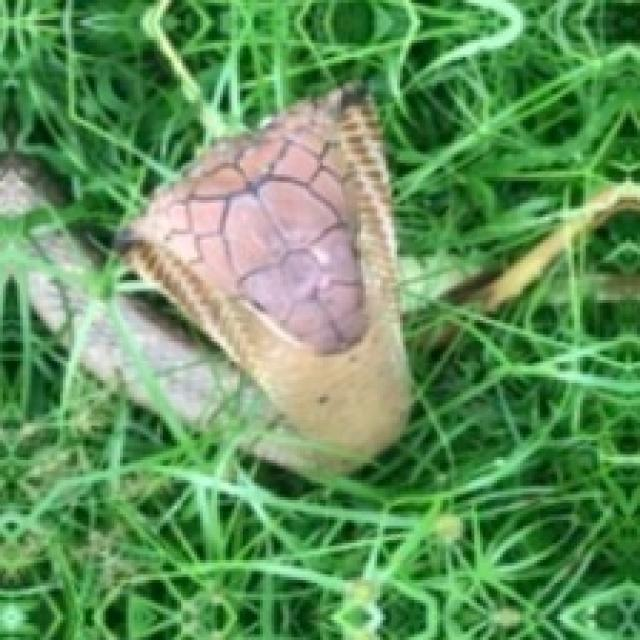king cobra: (117, 86, 409, 471), (117, 86, 409, 469)
